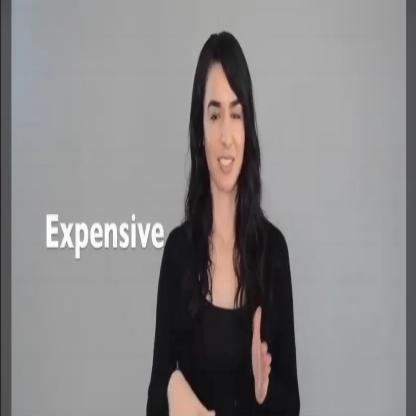Expensive: (172, 296, 272, 416)
